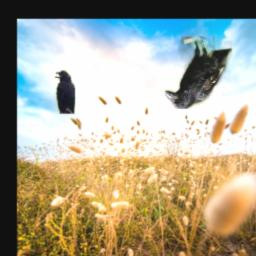Crow: (166, 38, 233, 110), (53, 70, 75, 114)
